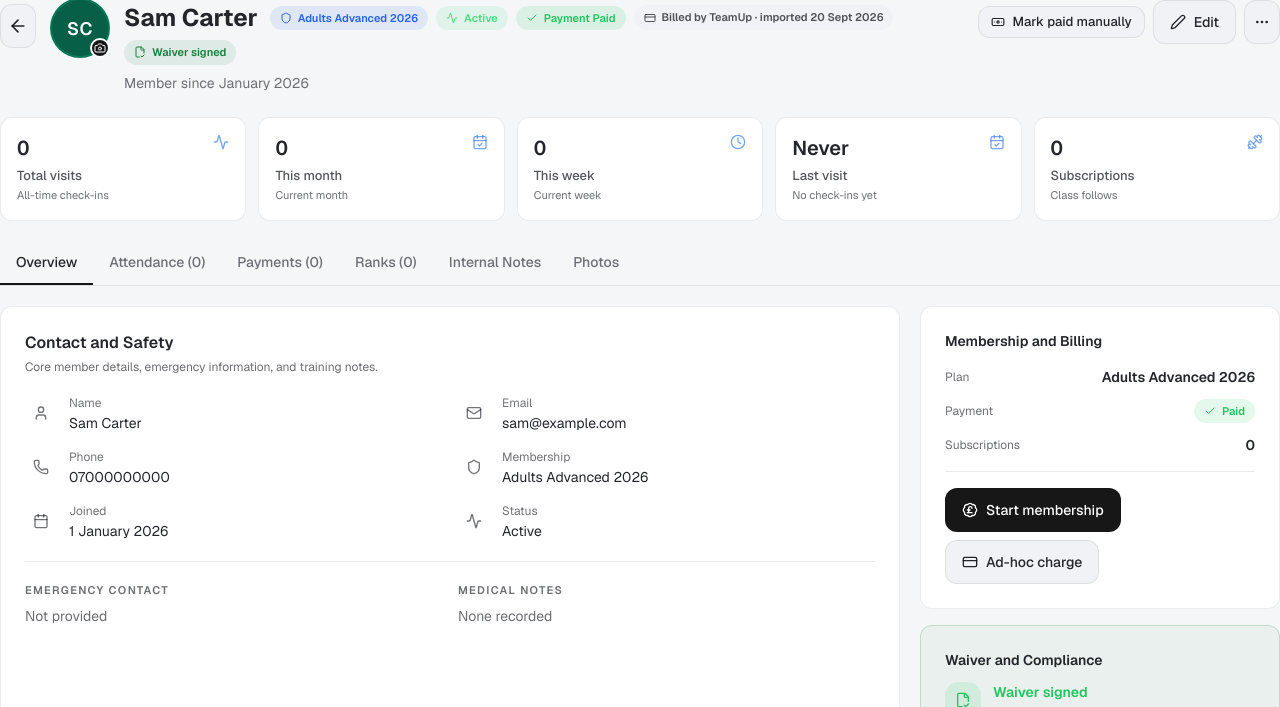
Test: staff profile › the hold dialog says the pause is MatFlow-only, above the confirm button
The image size is (1280, 707).
Click the button named "More actions": (1262, 22) [1244,0,1279,44]
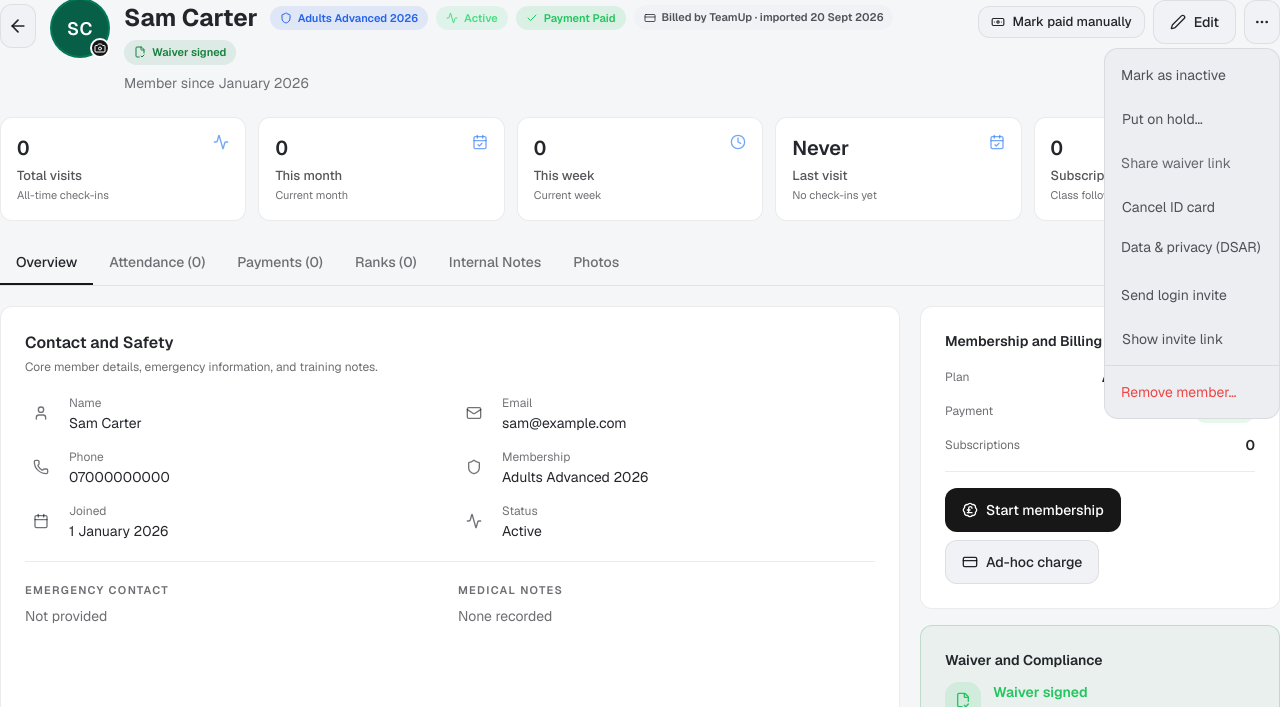
Click the button "Put on hold…": (1192, 119) [1105,97,1279,141]
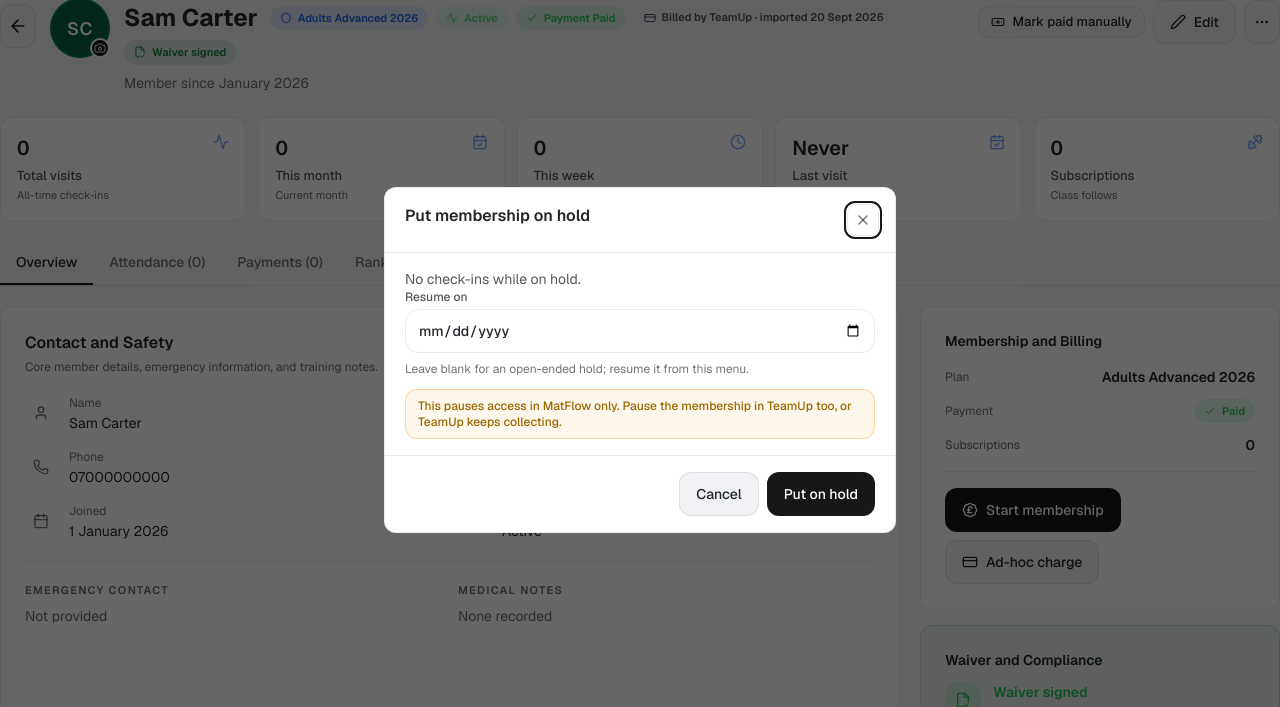
Expected: the text with test id "hold-teamup-note" shows "This pauses access in MatFlow only. Pause the membership in TeamUp too, or TeamUp keeps collecting.", [418,398,852,430]
